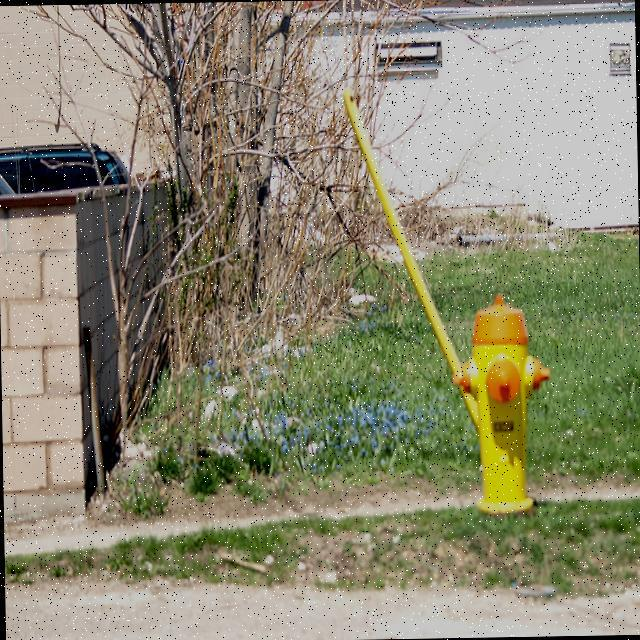fire_hydrant: (343, 83, 552, 517)
